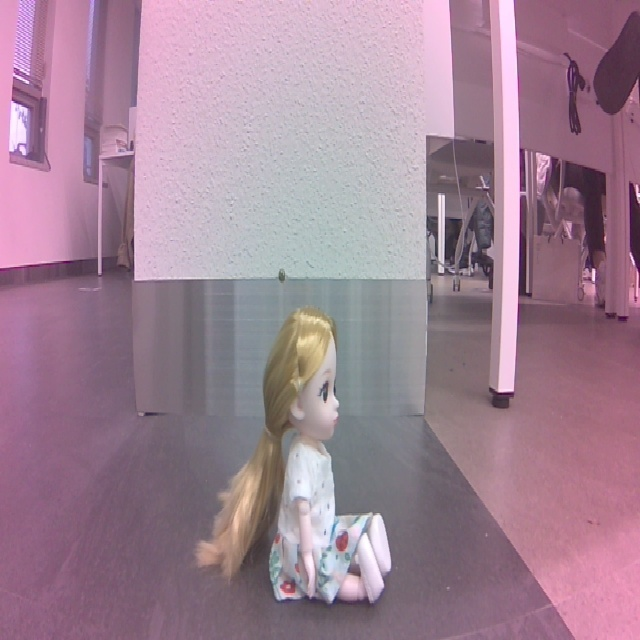장애물: (199, 304, 402, 620)
